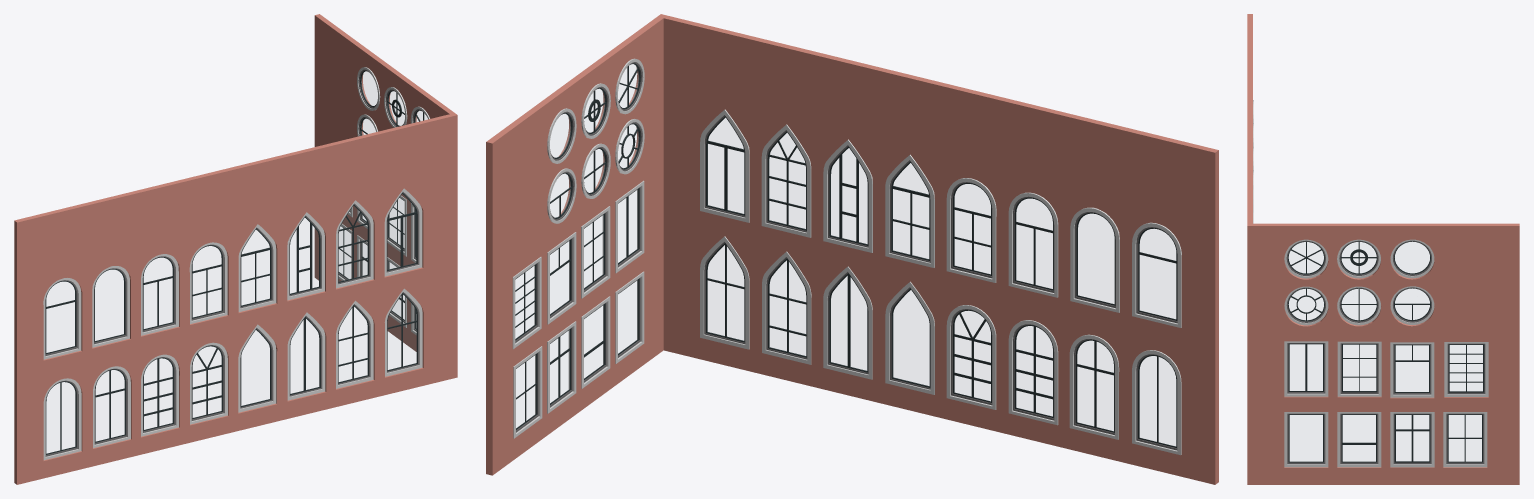
The model's file is SimpleWindowframes.fbx.
3 views of the same model, side by side, from view 1: azimuth 30°, elevation 25°; view 2: azimuth 150°, elevation 25°; view 3: azimuth 270°, elevation 25° (orthographic). The views are drawn at different scales.
Visible parts, largest first — view 1: wall, arch_top_window, arch_top_window.006, triangle_top_window2, triangle_top_window4, triangle_top_window1, triangle_top_window7, arch_top_window.008, arch_top_window.004, arch_top_window.001, arch_top_window.002, arch_top_window.007 (+7 smaller); view 2: wall, arch_top_window.007, arch_top_window.001, arch_top_window.008, arch_top_window.004, triangle_top_window5, arch_top_window.003, arch_top_window.006, arch_top_window.002, arch_top_window, triangle_top_window7, triangle_top_window3 (+19 smaller); view 3: wall, square_window.002, square_window.004, square_window.006, square_window, square_window.001, square_window.003, square_window.005, square_window.007, circle_window5, circle_window2, circle_window (+3 smaller).
Boxes of the visible parts, x1,y1,x2,y2 form: wall: [14, 14, 457, 484]; arch_top_window: [43, 378, 81, 460]; arch_top_window.006: [43, 278, 81, 359]; triangle_top_window2: [238, 324, 276, 412]; triangle_top_window4: [287, 312, 325, 400]; triangle_top_window1: [238, 224, 276, 311]; triangle_top_window7: [384, 188, 422, 276]; arch_top_window.008: [141, 354, 178, 436]; arch_top_window.004: [190, 342, 227, 424]; arch_top_window.001: [189, 242, 227, 323]; arch_top_window.002: [93, 366, 130, 447]; arch_top_window.007: [141, 254, 178, 335]; wall: [486, 14, 1218, 484]; arch_top_window.007: [1008, 192, 1058, 297]; arch_top_window.001: [946, 178, 996, 282]; arch_top_window.008: [1008, 320, 1058, 425]; arch_top_window.004: [946, 305, 996, 409]; triangle_top_window5: [761, 124, 811, 237]; arch_top_window.003: [1070, 207, 1119, 312]; arch_top_window.006: [1132, 222, 1181, 327]; arch_top_window.002: [1069, 334, 1119, 439]; arch_top_window: [1132, 350, 1181, 455]; triangle_top_window7: [700, 109, 749, 222]; triangle_top_window3: [823, 139, 872, 252]; wall: [1247, 14, 1519, 484]; square_window.002: [1390, 412, 1434, 467]; square_window.004: [1284, 341, 1328, 396]; square_window.006: [1390, 342, 1434, 397]; square_window: [1284, 412, 1328, 467]; square_window.001: [1337, 412, 1381, 467]; square_window.003: [1443, 412, 1487, 467]; square_window.005: [1337, 341, 1381, 396]; square_window.007: [1444, 342, 1488, 396]; circle_window5: [1390, 286, 1434, 324]; circle_window2: [1284, 239, 1328, 278]; circle_window: [1390, 239, 1434, 278].
Size of the model in its own units: 2021 by 1150 by 1097.
